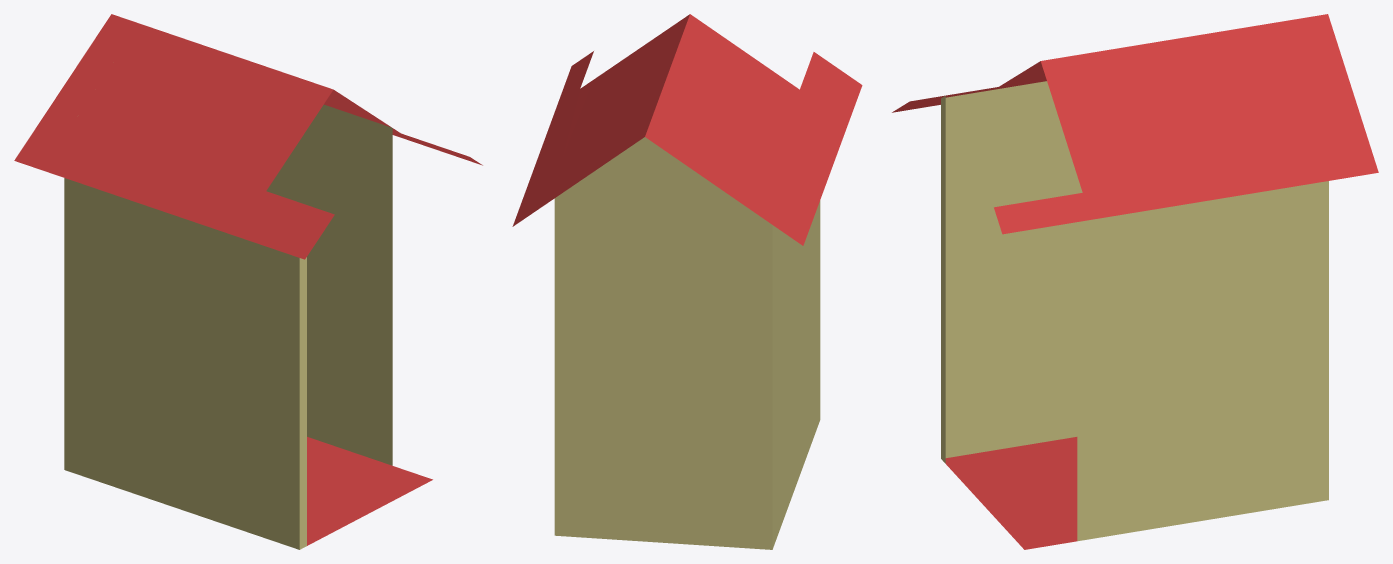
3 renders of one model, left to right at view 1: azimuth 30°, elevation 25°; view 2: azimuth 150°, elevation 25°; view 3: azimuth 270°, elevation 25°, orthographic. The views are drawn at different scales.
Size of the model in its own units: 8.4 by 9.45 by 9.42.
